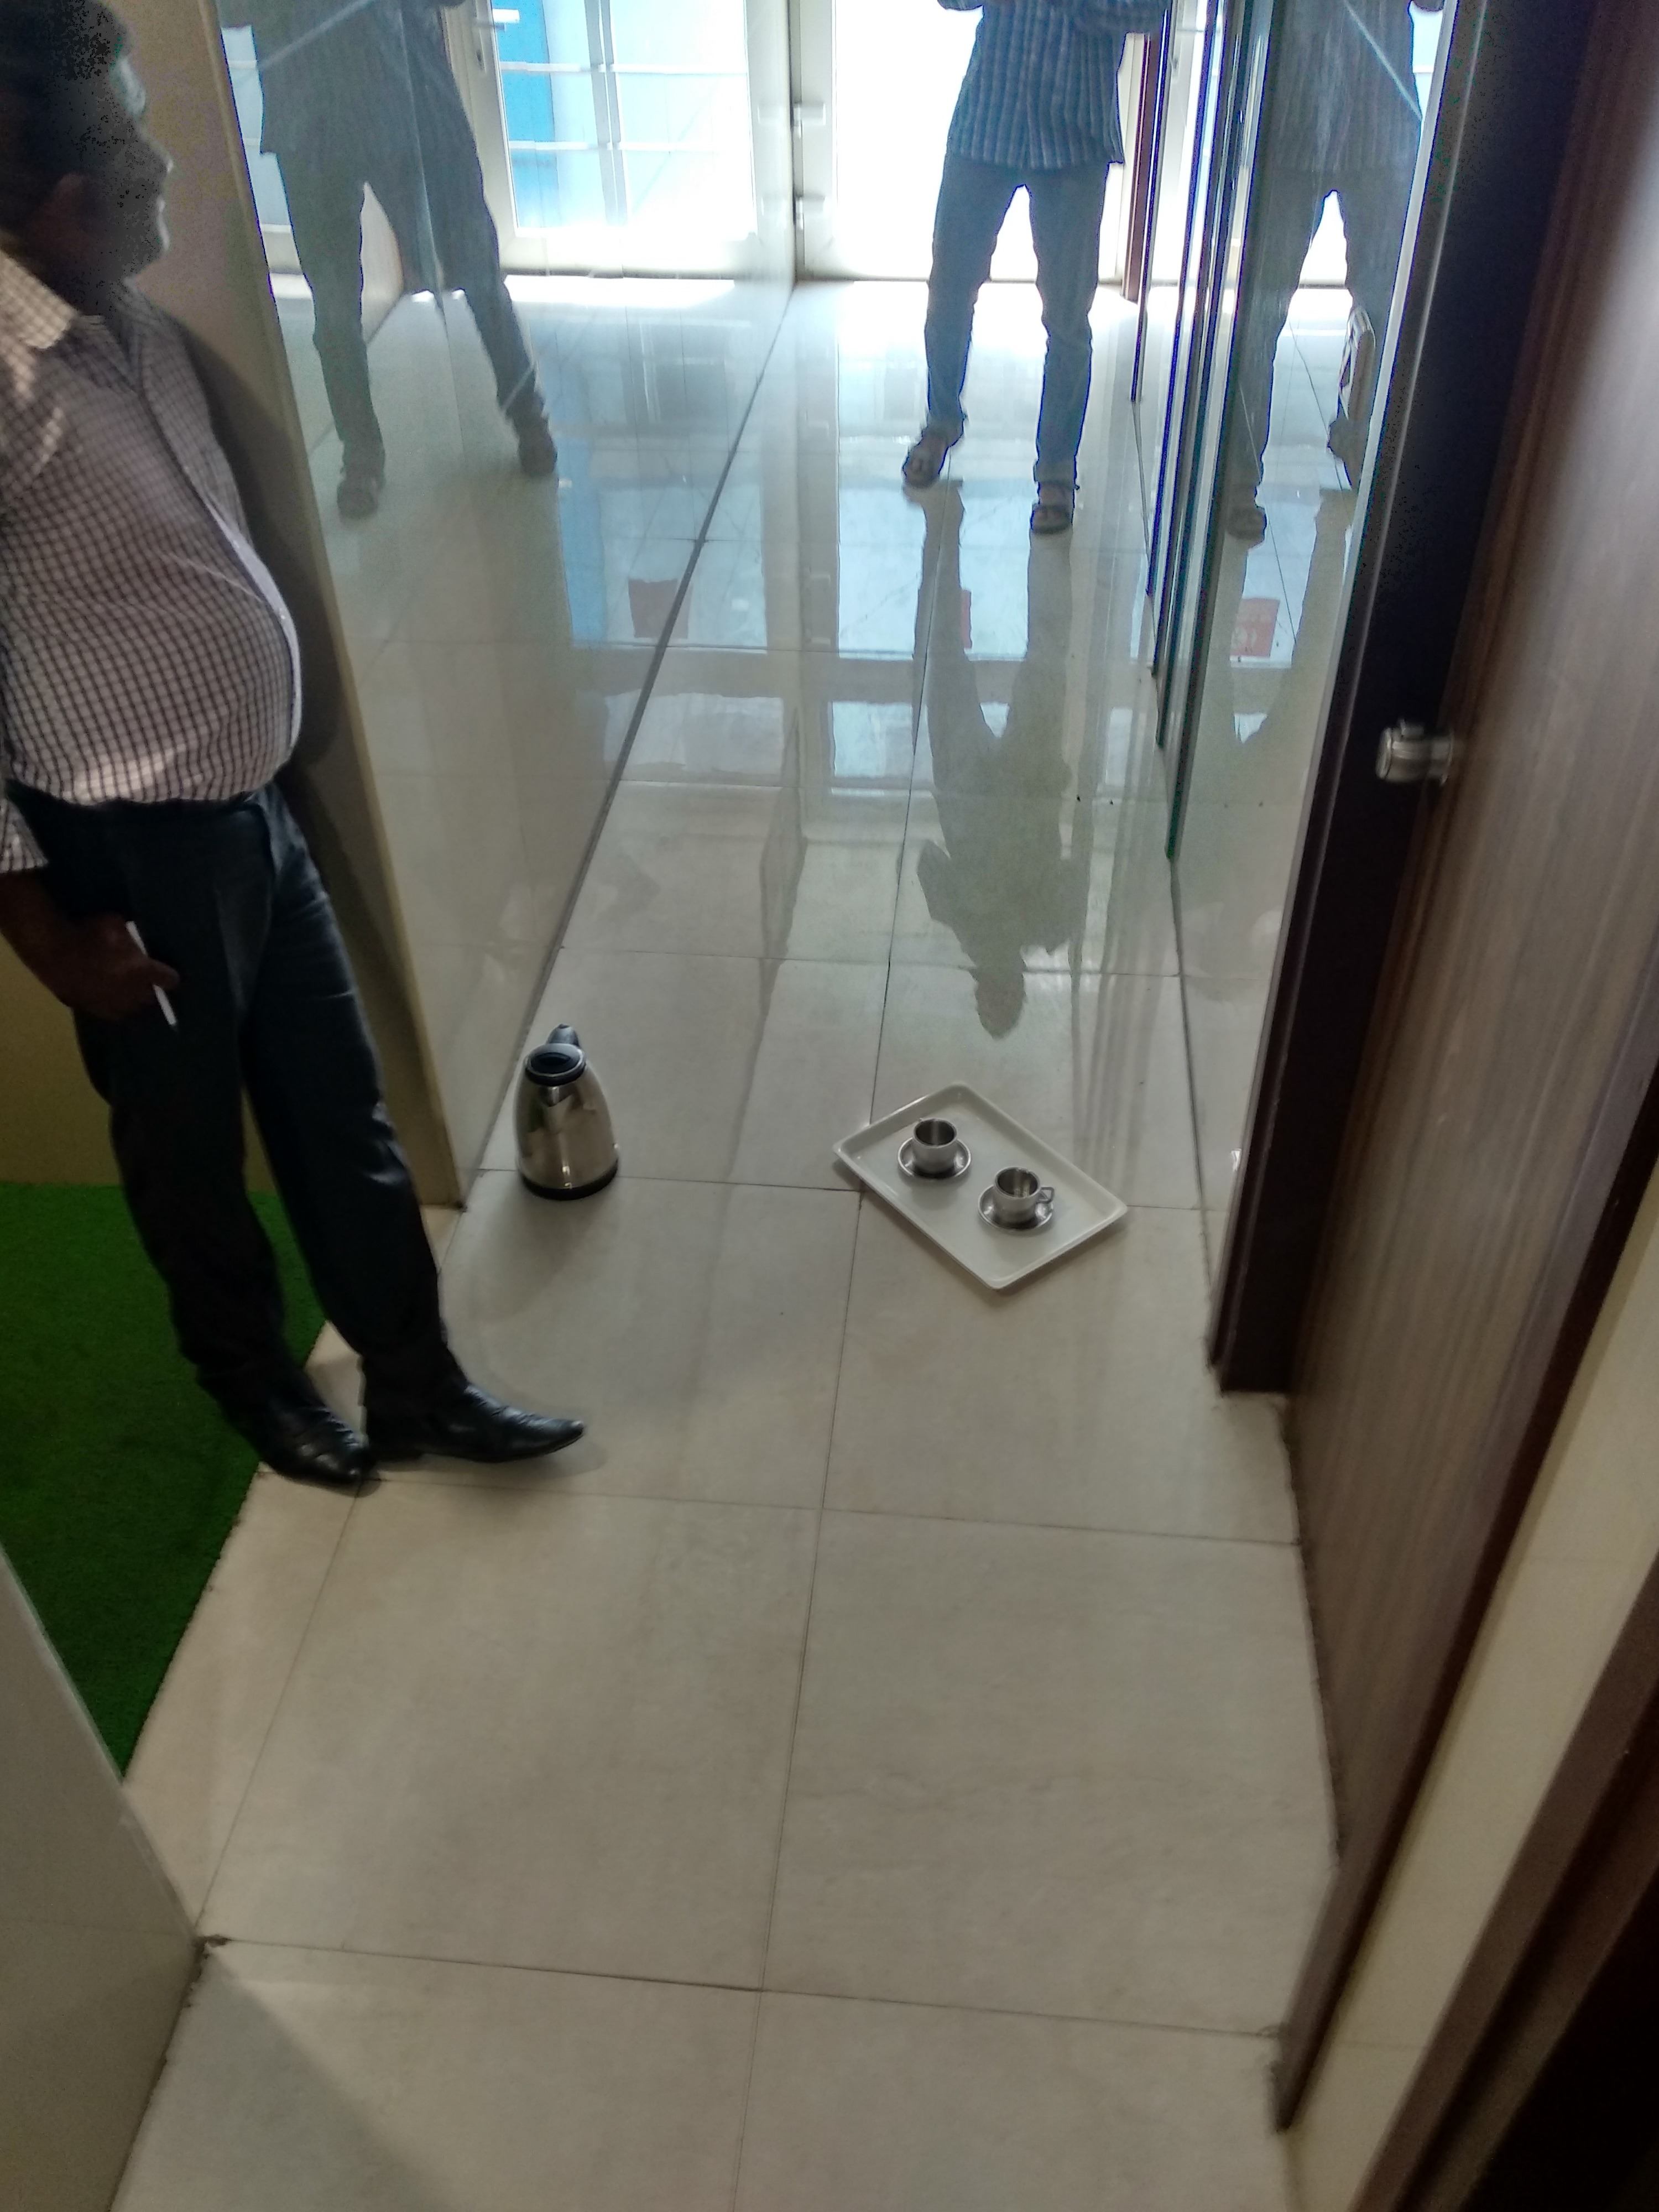CUP: (981, 1162, 1060, 1235), (896, 1115, 976, 1184)
JUG: (509, 1031, 626, 1202)
